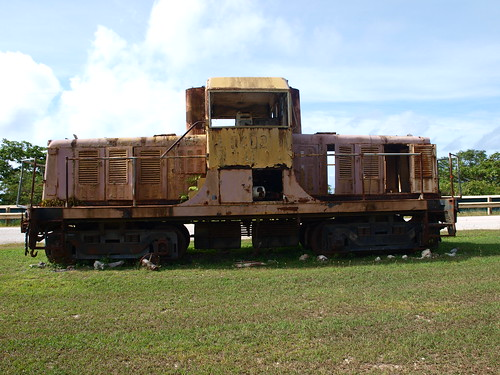grass: (8, 246, 500, 375)
sky: (1, 1, 492, 143)
train: (14, 76, 450, 260)
